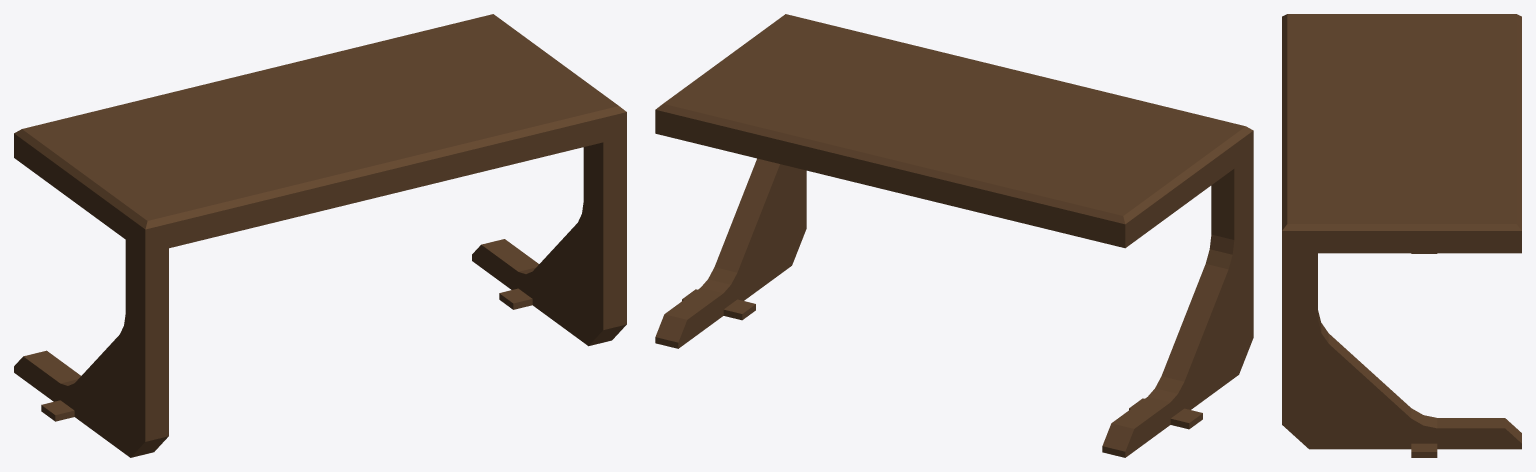
Rendered from Chair_Holder_Double.fbx.
3 renders of one model, left to right at view 1: azimuth 30°, elevation 25°; view 2: azimuth 150°, elevation 25°; view 3: azimuth 270°, elevation 25°, orthographic. The views are drawn at different scales.
Visible parts, largest first — view 1: Chair_Holder_BAKE; view 2: Chair_Holder_BAKE; view 3: Chair_Holder_BAKE.
Part boxes in pixels (x1,y1,x2,y2): Chair_Holder_BAKE: (14, 14, 626, 457); Chair_Holder_BAKE: (655, 14, 1253, 457); Chair_Holder_BAKE: (1282, 14, 1521, 457).
Bounding box in the file's own units: 110 × 49.29 × 48.
